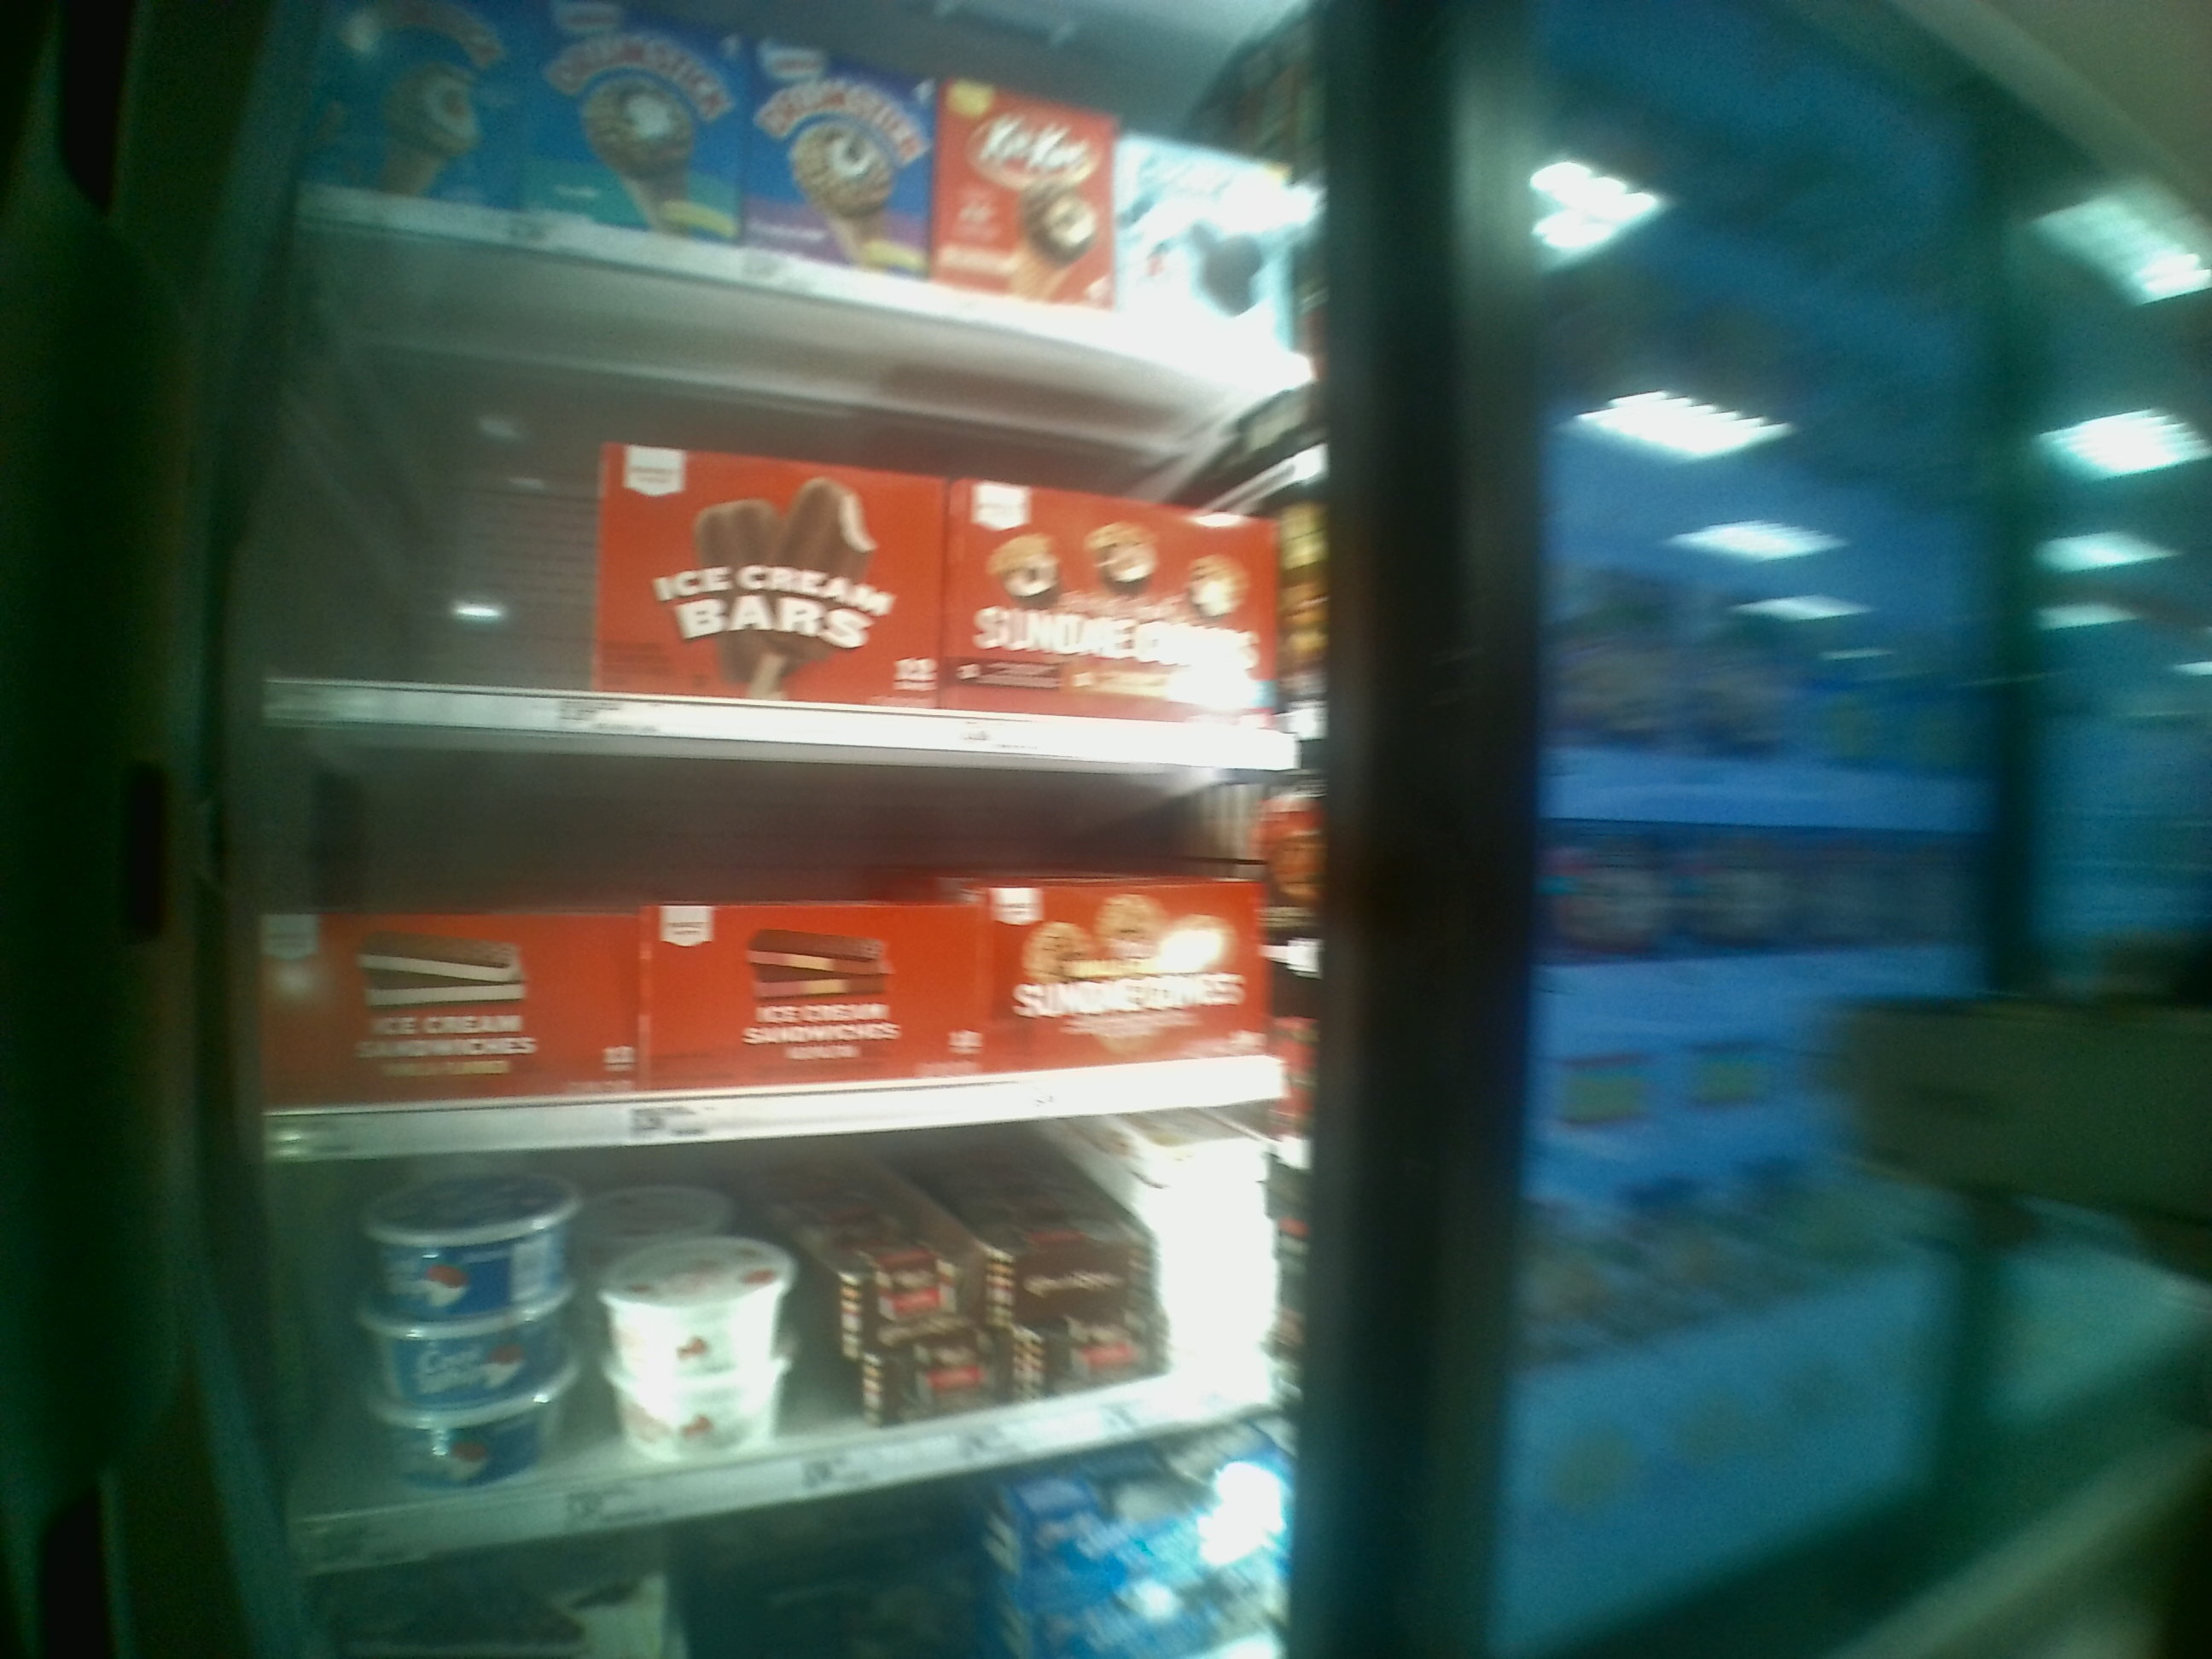frozen-food-shelf: (244, 727, 1310, 1166), (221, 385, 1318, 767)
